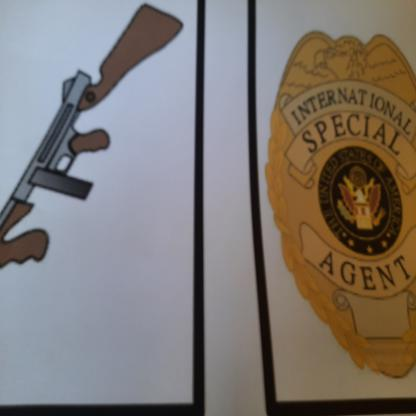Bootlegger: (1, 2, 189, 294)
G-man: (258, 26, 416, 385)
